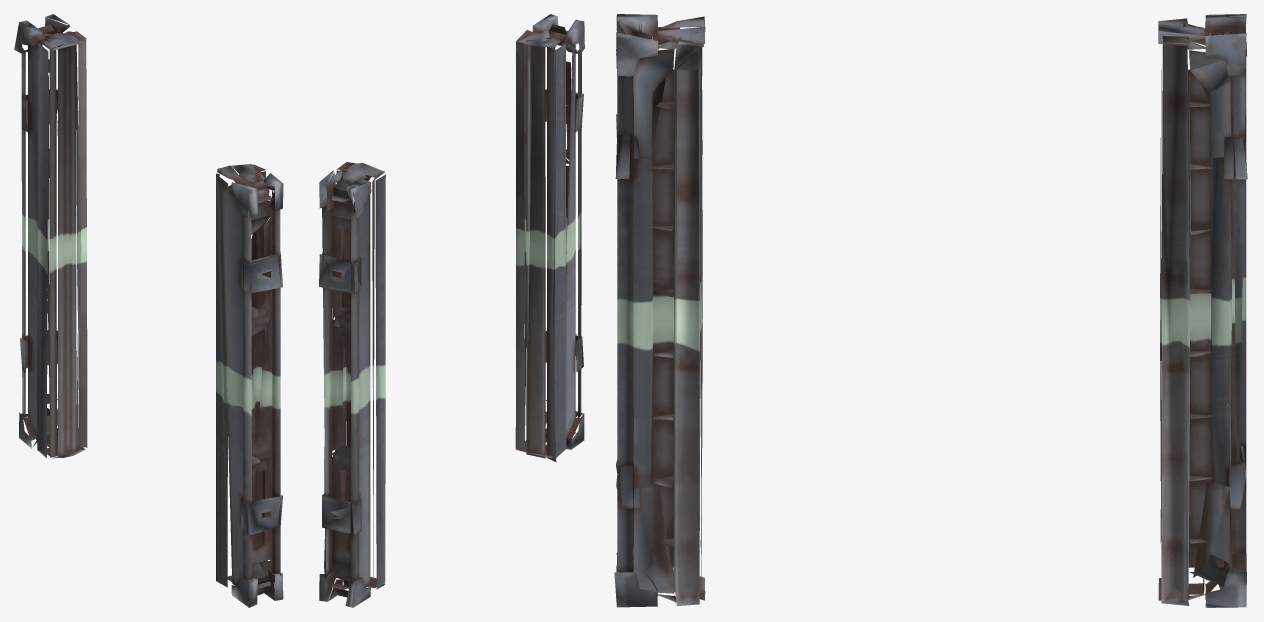
Rendered from BP_DoubleDoorframe_Metal_C.glb.
3 views of the same model, side by side, from view 1: azimuth 30°, elevation 25°; view 2: azimuth 150°, elevation 25°; view 3: azimuth 270°, elevation 25° (orthographic). The views are drawn at different scales.
Parts seen in each view (by area): view 1: SM_Metal_WallDoorwayDouble; view 2: SM_Metal_WallDoorwayDouble; view 3: SM_Metal_WallDoorwayDouble.
Boxes of the visible parts, box(x1,y1,x2,y2) form: SM_Metal_WallDoorwayDouble: box(14, 14, 283, 607); SM_Metal_WallDoorwayDouble: box(319, 14, 584, 607); SM_Metal_WallDoorwayDouble: box(614, 14, 1247, 607).
Bounding box in the file's own units: 0.3548 × 3.03 × 3.05.
Materials: 1 (1 with a texture image).
